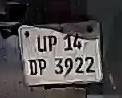1: (62, 32, 74, 53)
2: (73, 55, 86, 76), (84, 56, 95, 75)
3: (51, 55, 64, 77)
4: (72, 34, 83, 52)
9: (63, 57, 74, 77)
D: (28, 58, 39, 79)
P: (38, 58, 51, 77), (47, 34, 58, 55)
U: (33, 35, 50, 55)
